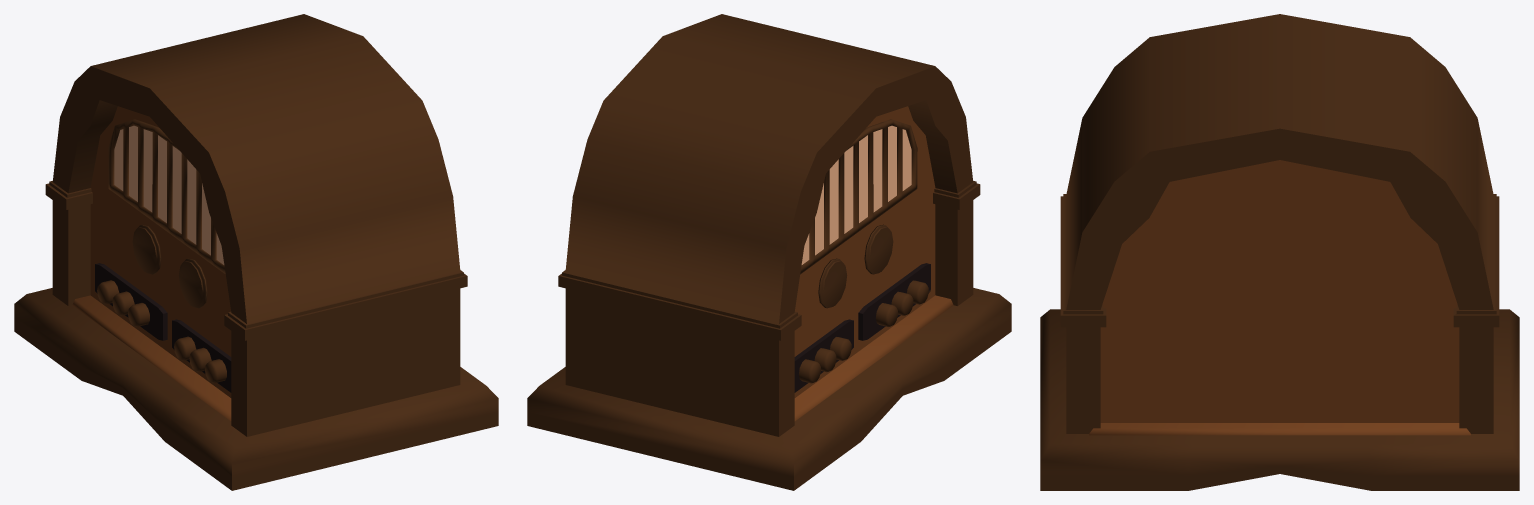
Rendered from Radio.fbx.
The picture shows the model from 3 angles, left to right: view 1: azimuth 30°, elevation 25°; view 2: azimuth 150°, elevation 25°; view 3: azimuth 270°, elevation 25°; orthographic projection. The views are drawn at different scales.
Visible parts, largest first — view 1: Cubierta, Base, Front, Altavoz, Rejilla, Base_2, Soporte_Botones, Botón_2, Botón_1; view 2: Cubierta, Base, Front, Altavoz, Rejilla, Base_2, Soporte_Botones, Botón_1, Botón_2; view 3: Back, Cubierta, Base, Base_2.
Boxes of the visible parts, x1=… form: Cubierta: x1=45, y1=14, x2=467, y2=436; Base: x1=14, y1=288, x2=498, y2=490; Front: x1=90, y1=106, x2=231, y2=397; Altavoz: x1=114, y1=125, x2=224, y2=264; Rejilla: x1=108, y1=119, x2=225, y2=274; Base_2: x1=72, y1=295, x2=231, y2=421; Soporte_Botones: x1=95, y1=263, x2=231, y2=392; Botón_2: x1=178, y1=258, x2=207, y2=308; Botón_1: x1=132, y1=224, x2=161, y2=274; Cubierta: x1=558, y1=14, x2=980, y2=436; Base: x1=527, y1=288, x2=1011, y2=490; Front: x1=794, y1=106, x2=935, y2=397; Altavoz: x1=801, y1=125, x2=911, y2=264; Rejilla: x1=800, y1=119, x2=917, y2=274; Base_2: x1=794, y1=295, x2=953, y2=421; Soporte_Botones: x1=794, y1=263, x2=930, y2=392; Botón_1: x1=818, y1=258, x2=847, y2=308; Botón_2: x1=864, y1=224, x2=893, y2=274; Back: x1=1100, y1=160, x2=1459, y2=422; Cubierta: x1=1060, y1=14, x2=1499, y2=433; Base: x1=1040, y1=309, x2=1519, y2=490; Base_2: x1=1089, y1=423, x2=1470, y2=435.
Size of the model in its own units: 200 by 227 by 283.
2 materials, 1 textured.
